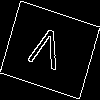V: (24, 25, 66, 80)
